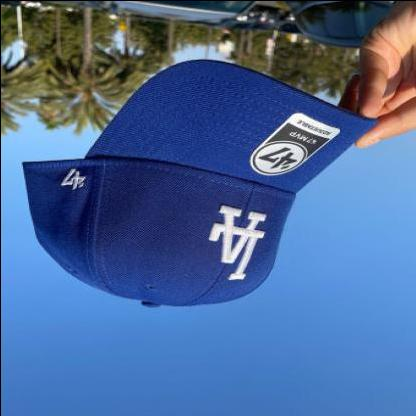cap: (12, 58, 383, 316)
